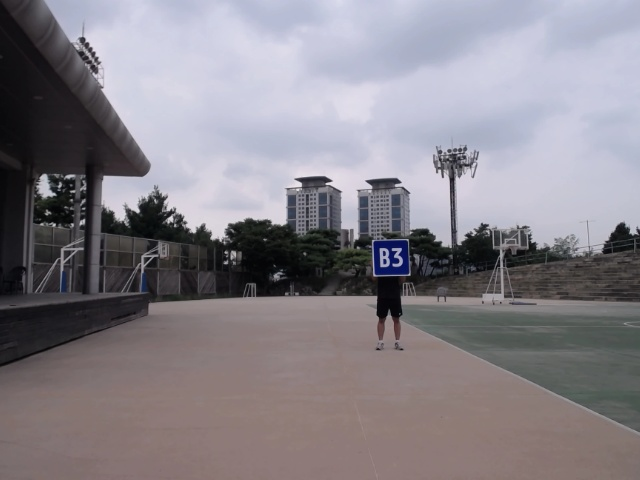delivery_b3: (370, 239, 412, 278)
